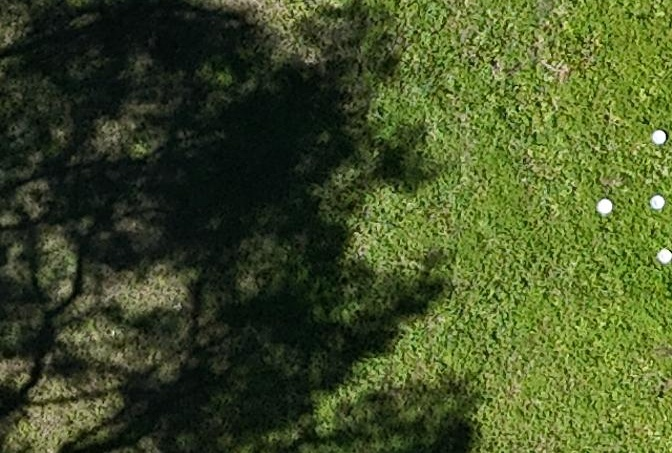bowl: (597, 198, 613, 215), (650, 194, 665, 210), (652, 129, 666, 145), (658, 248, 672, 263)
